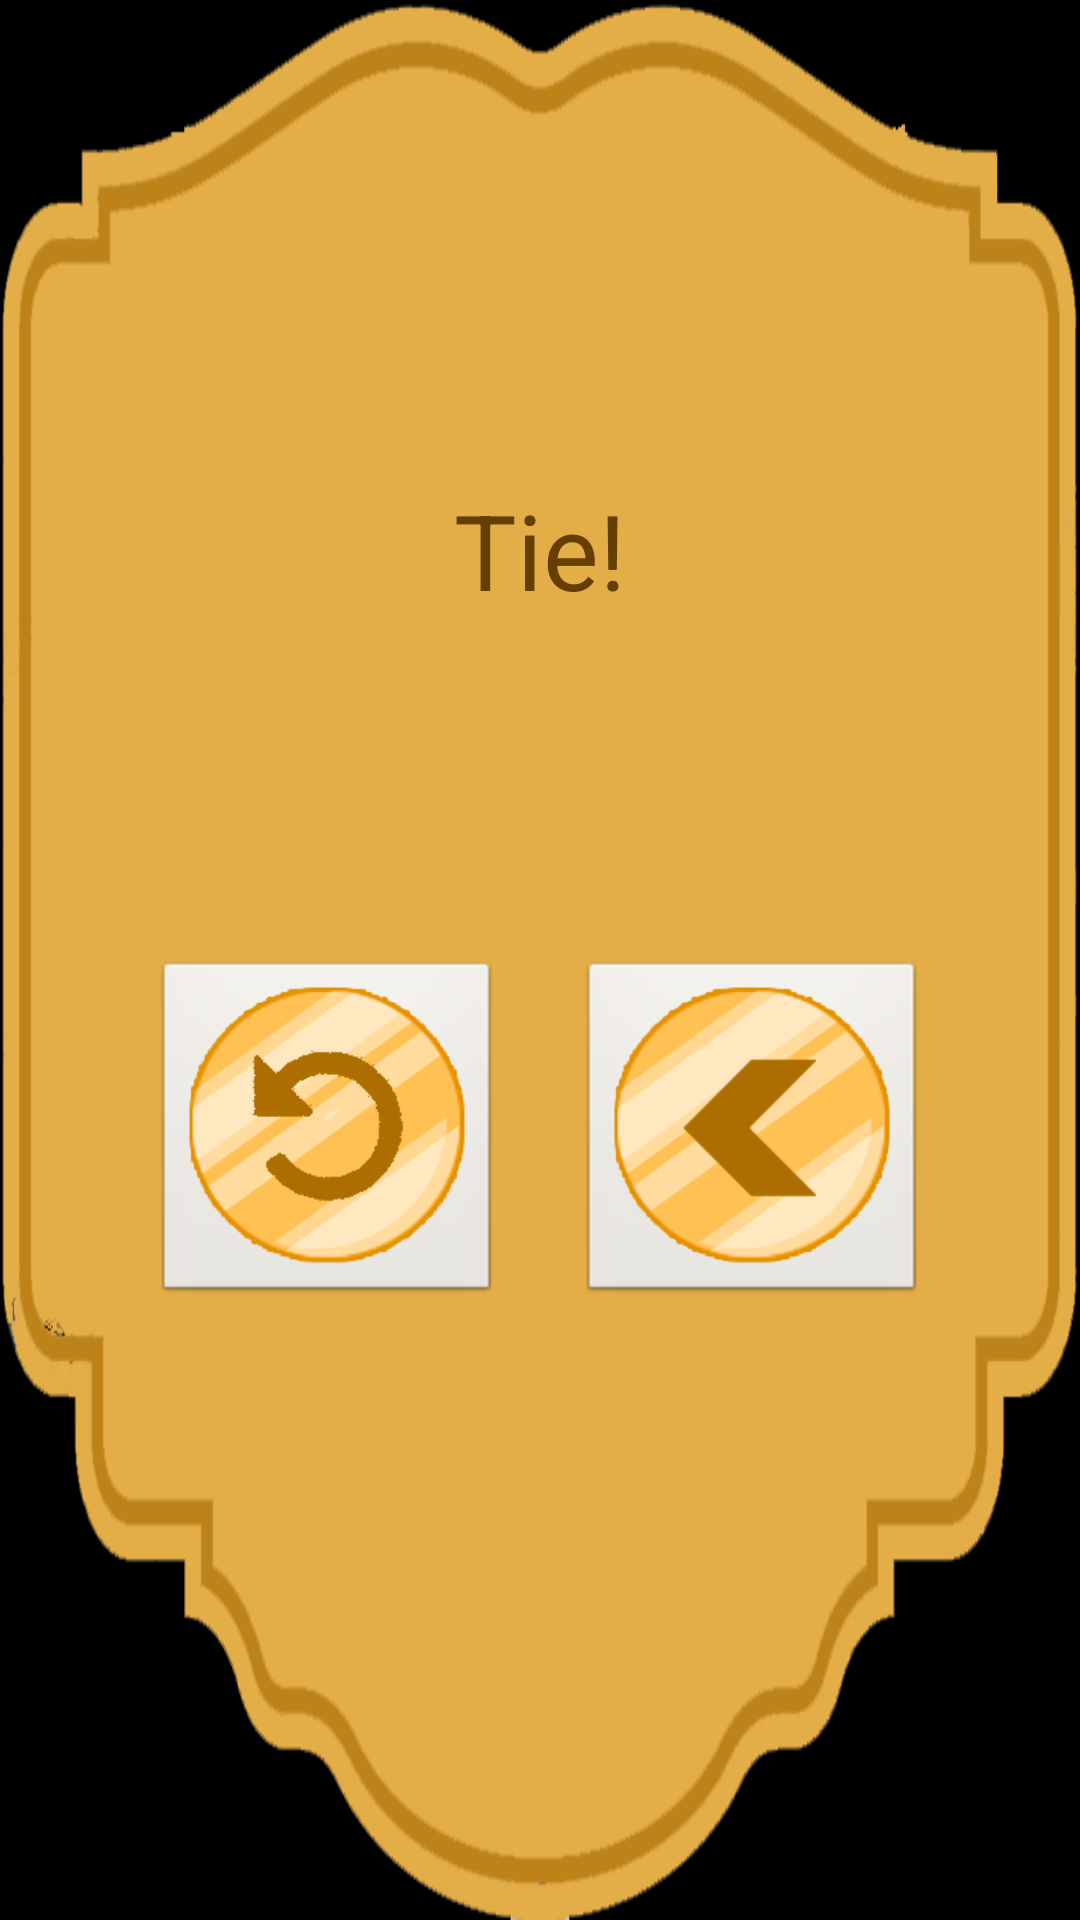

Icon click points for this 1080 × 1920 phone screenshot, format point (x, y):
back: point (751, 1127)
replay: point (326, 1127)
